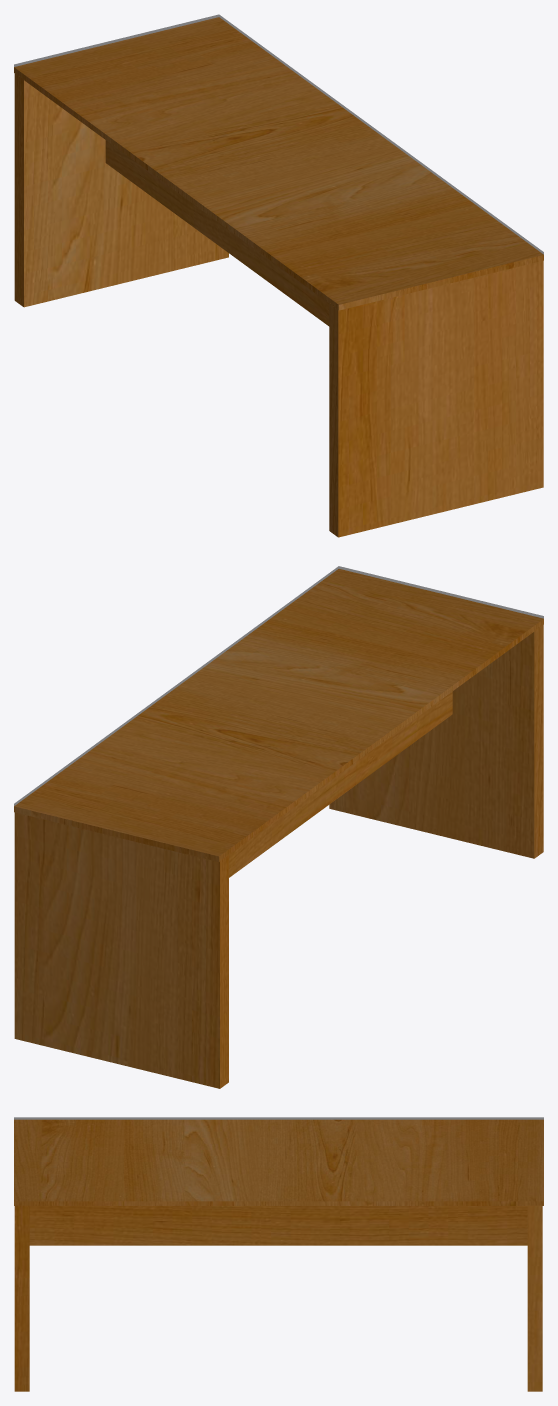
The model's file is Office_2.FBX.
3 views of the same model, one above another, from view 1: azimuth 30°, elevation 25°; view 2: azimuth 150°, elevation 25°; view 3: azimuth 270°, elevation 25° (orthographic). The views are drawn at different scales.
Visible parts, largest first — view 1: 4, 6, 1; view 2: 4, 6, 1; view 3: 6, 1, 4.
Part boxes in pixels (box(x1,y1,x2,y2)): 4: box(14, 73, 543, 537); 6: box(14, 17, 543, 310); 1: box(14, 14, 543, 304); 4: box(14, 624, 543, 1088); 6: box(14, 569, 543, 861); 1: box(14, 566, 543, 855); 6: box(14, 1119, 543, 1205); 1: box(14, 1117, 543, 1200); 4: box(14, 1205, 542, 1391).
Size of the model in its own units: 1072 by 1177 by 2940.
Materials: 2 (1 with a texture image).
